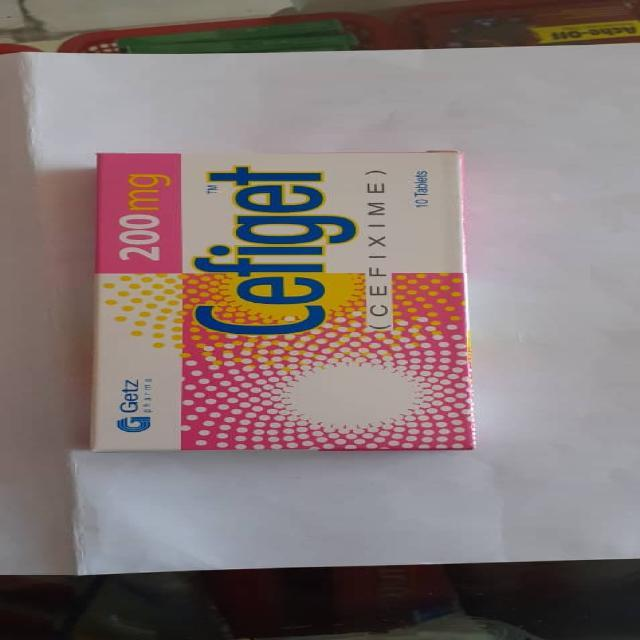drug-name: (192, 160, 358, 340)
